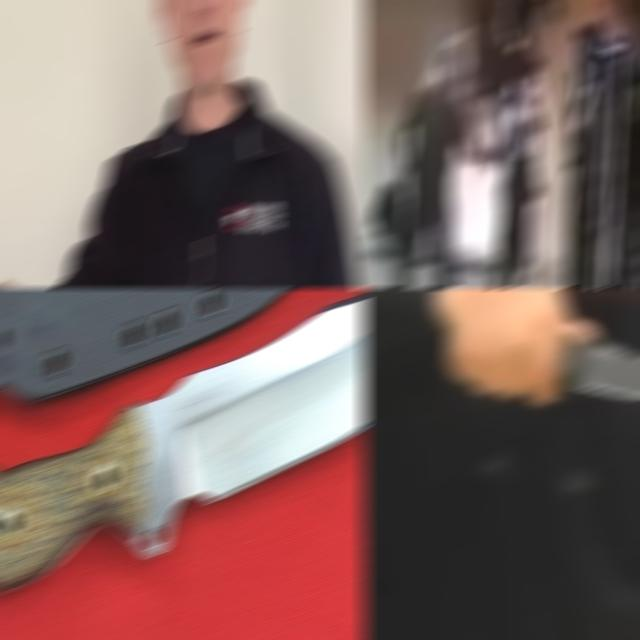Knife: (560, 330, 640, 398)
Knife_Handle: (425, 289, 640, 400), (481, 146, 506, 168), (485, 146, 506, 168)
